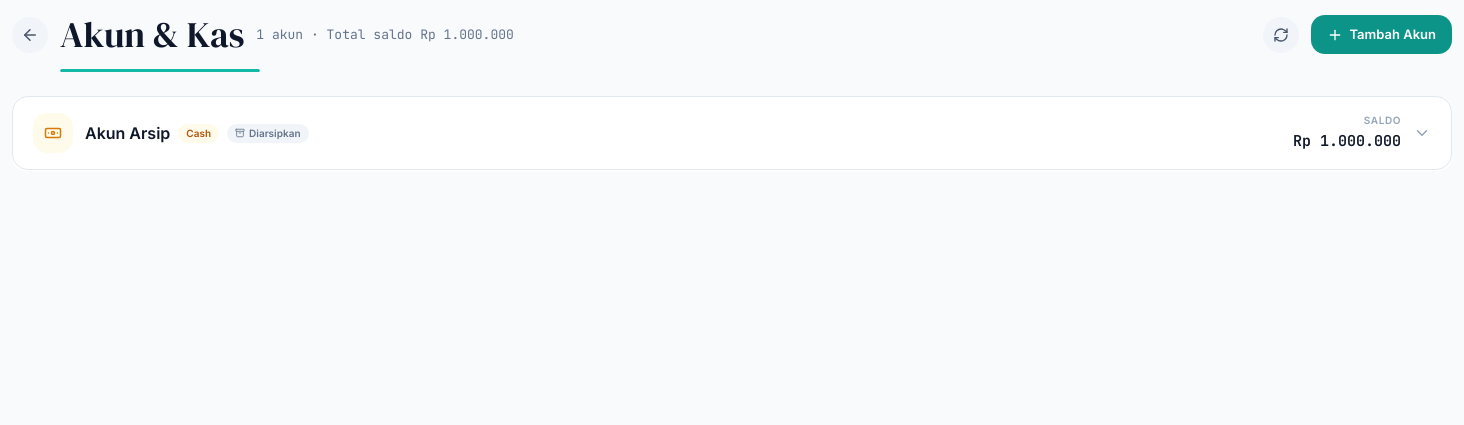
AkunKas page › shows the "Aktifkan" action instead of "Arsipkan" for an archived account (Req 9.6)
Step 1. Click the button "Akun Arsip Cash Diarsipkan Saldo Rp 1.000.000" → [53, 133], box [13, 97, 1451, 169]
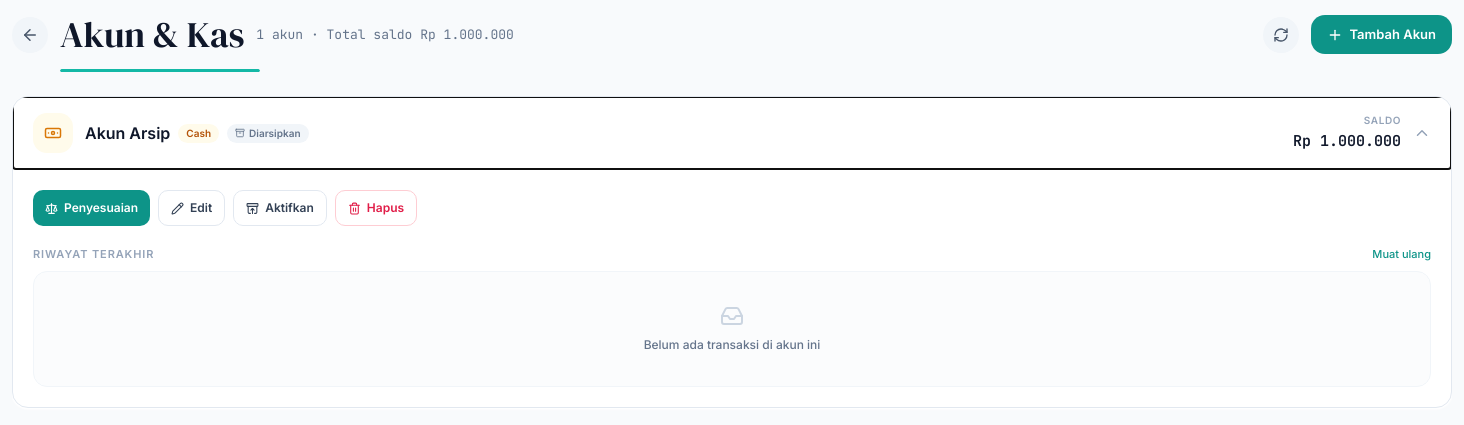
Check: the button "Aktifkan" is shown, box [233, 190, 327, 226]
